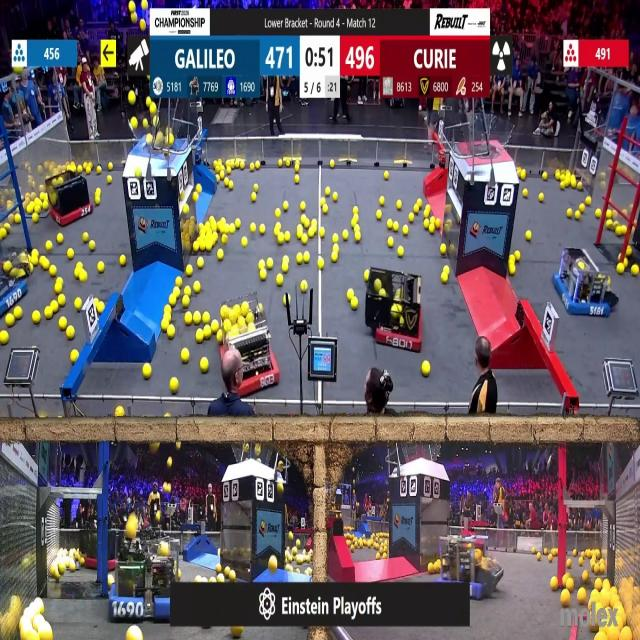ball_airborne: (127, 516, 139, 538), (129, 93, 137, 105), (155, 133, 162, 146), (130, 1, 137, 12), (162, 483, 168, 495), (146, 134, 152, 145), (132, 116, 138, 127), (140, 20, 146, 31), (150, 104, 156, 114), (168, 457, 173, 468), (141, 0, 147, 9), (169, 136, 174, 146), (155, 512, 160, 522), (143, 118, 148, 127), (146, 97, 150, 107), (176, 443, 181, 451)
ball_ground: (128, 628, 142, 640), (232, 626, 244, 639), (561, 591, 570, 607), (201, 357, 210, 372), (170, 378, 178, 394), (270, 557, 278, 573), (0, 332, 9, 346), (40, 629, 51, 640), (577, 589, 585, 604), (143, 363, 151, 377), (422, 361, 430, 375), (181, 349, 189, 363), (551, 576, 559, 590), (204, 326, 212, 340), (184, 313, 192, 326), (5, 315, 14, 326), (56, 280, 63, 294), (60, 318, 68, 330), (33, 312, 41, 324), (74, 297, 82, 309), (192, 282, 200, 294), (13, 308, 21, 320), (220, 307, 228, 319), (71, 350, 78, 363), (168, 325, 175, 338), (195, 331, 202, 344), (203, 313, 211, 324), (276, 275, 284, 286), (182, 295, 189, 307), (67, 326, 74, 338), (193, 313, 200, 325), (299, 281, 306, 293), (40, 256, 47, 268), (38, 601, 44, 615), (566, 577, 573, 589), (442, 274, 450, 284), (617, 225, 625, 235), (115, 409, 123, 419), (604, 219, 612, 229), (259, 270, 266, 281), (267, 260, 274, 271), (185, 266, 192, 277), (632, 266, 639, 277), (59, 294, 66, 305), (49, 267, 56, 278), (98, 303, 105, 314), (198, 260, 205, 271), (79, 272, 86, 283), (351, 300, 358, 311), (44, 308, 51, 319), (216, 334, 223, 345), (50, 302, 57, 313), (218, 220, 225, 231), (230, 570, 237, 581), (68, 248, 74, 260), (119, 254, 125, 266), (348, 288, 354, 300), (318, 257, 324, 269), (212, 320, 218, 332), (330, 252, 337, 262), (170, 295, 177, 305), (183, 286, 190, 296), (258, 261, 265, 271), (275, 222, 282, 232), (520, 170, 527, 180), (510, 267, 517, 277), (206, 242, 213, 252), (595, 578, 602, 588), (583, 571, 590, 581), (299, 215, 306, 225), (428, 222, 435, 232), (99, 263, 105, 274), (58, 234, 64, 245), (442, 244, 448, 255), (516, 250, 522, 261), (306, 227, 312, 238), (296, 229, 302, 240), (278, 235, 284, 246), (428, 563, 434, 574), (108, 574, 114, 585), (331, 234, 338, 243), (182, 205, 189, 214), (82, 234, 88, 244), (90, 241, 96, 251), (402, 224, 408, 234), (355, 233, 361, 243), (283, 202, 289, 212), (388, 238, 394, 248), (343, 232, 349, 242), (276, 208, 282, 218), (619, 265, 625, 275), (176, 277, 182, 287), (217, 250, 223, 260), (304, 252, 310, 262), (0, 230, 6, 240), (299, 202, 305, 212), (397, 247, 403, 257), (236, 218, 242, 228), (296, 253, 302, 263), (526, 232, 532, 242), (377, 210, 383, 220), (319, 230, 325, 240), (74, 270, 80, 280), (221, 235, 227, 245), (192, 242, 198, 252), (284, 234, 290, 244), (352, 215, 358, 225), (434, 218, 440, 228), (28, 205, 34, 215), (217, 574, 224, 582), (302, 237, 309, 245), (282, 265, 288, 274), (380, 198, 386, 207), (396, 201, 402, 210), (331, 191, 337, 200), (627, 247, 633, 256), (606, 210, 612, 219), (282, 295, 288, 304), (174, 287, 180, 296), (556, 172, 562, 181), (228, 223, 234, 232), (163, 303, 169, 312), (42, 201, 48, 210), (259, 224, 264, 234), (364, 272, 369, 282), (46, 241, 51, 251), (410, 213, 415, 223), (567, 208, 572, 218), (163, 320, 168, 330), (388, 219, 393, 229), (424, 218, 429, 228), (250, 223, 256, 231), (596, 210, 602, 218), (538, 192, 544, 200), (523, 188, 529, 196), (322, 206, 328, 214), (392, 222, 398, 230), (566, 560, 572, 568), (283, 255, 289, 263), (216, 564, 222, 572), (191, 192, 197, 200), (354, 224, 360, 232), (541, 172, 547, 180), (574, 211, 580, 219), (324, 187, 330, 195), (210, 216, 216, 224), (414, 206, 420, 214), (225, 168, 231, 176), (32, 248, 38, 256), (252, 183, 258, 191), (219, 172, 225, 180), (243, 238, 248, 247), (14, 214, 19, 223), (312, 218, 317, 227), (250, 164, 255, 173), (294, 164, 299, 173), (286, 294, 292, 301), (252, 191, 256, 201), (445, 267, 450, 275), (587, 198, 592, 206), (33, 214, 38, 222), (424, 210, 429, 218), (195, 184, 200, 192), (560, 182, 565, 190), (329, 162, 334, 170), (624, 257, 629, 265), (320, 198, 325, 206), (547, 556, 552, 564), (576, 182, 581, 190), (542, 546, 547, 554), (228, 184, 232, 193), (571, 551, 577, 557), (223, 178, 227, 187), (279, 158, 283, 167), (382, 555, 388, 561), (596, 634, 602, 640), (108, 164, 113, 171), (353, 207, 358, 214), (294, 176, 299, 183), (578, 559, 583, 566), (579, 205, 584, 212), (96, 188, 101, 195), (417, 200, 422, 207), (240, 163, 245, 170), (194, 576, 199, 583), (98, 167, 102, 175), (96, 198, 100, 206), (384, 172, 388, 180), (216, 175, 220, 183), (255, 163, 259, 171), (210, 576, 215, 582), (88, 169, 93, 175), (108, 176, 112, 183), (377, 554, 381, 561), (532, 546, 536, 553), (536, 554, 540, 560)
goal: (460, 118, 517, 158)
robot_blue: (111, 538, 174, 621), (441, 531, 506, 604), (555, 248, 616, 318), (0, 249, 30, 315)
robot_red: (225, 304, 280, 394), (366, 271, 422, 352), (48, 162, 92, 225), (446, 0, 485, 6)
